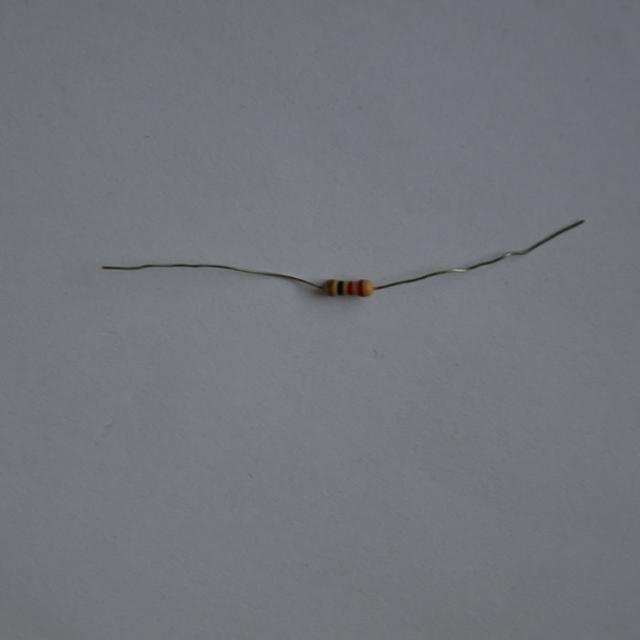black: (338, 281, 341, 294)
gold: (328, 280, 332, 295)
red: (358, 280, 364, 295), (347, 282, 354, 294)
resistor: (321, 272, 377, 299)
